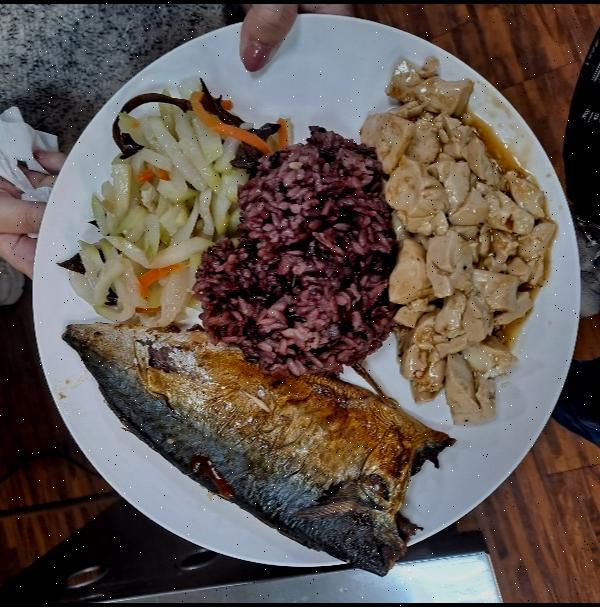big fried chicken leg: (21, 17, 585, 574)
braised fish: (189, 127, 399, 375)
braised fish fillet: (365, 53, 552, 427), (57, 90, 274, 320)
braised pork ribs: (56, 315, 444, 574)
